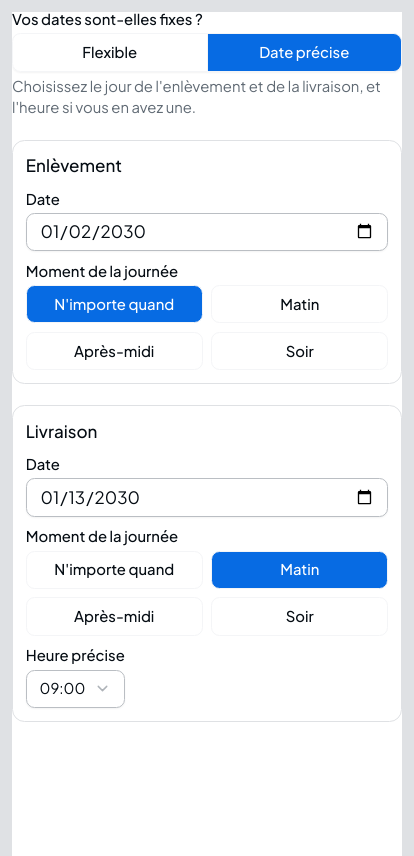
Test case: TimingField — « N'importe quand » on an exact day › brings the hour back with a time of day
Expected: the number of dropdowns named "Heure précise" is 1, 26,670 -> 125,708
Click the 1st radio button labelled "Soir" at {"x": 300, "y": 351}, box 211,332 -> 388,370
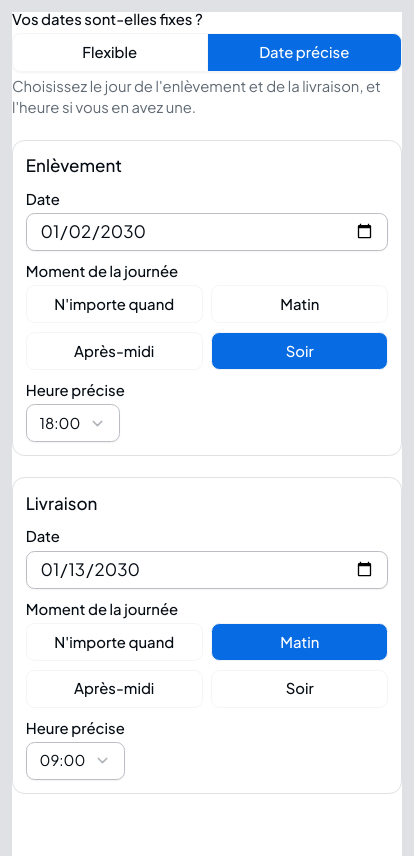
Now the number of dropdowns named "Heure précise" is 2, box 26,404 -> 120,442; 26,742 -> 125,780
